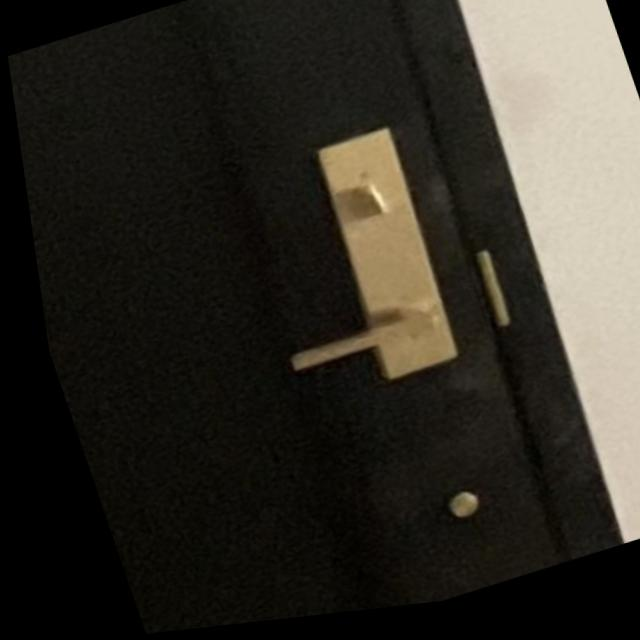door_handle: (247, 284, 466, 404)
